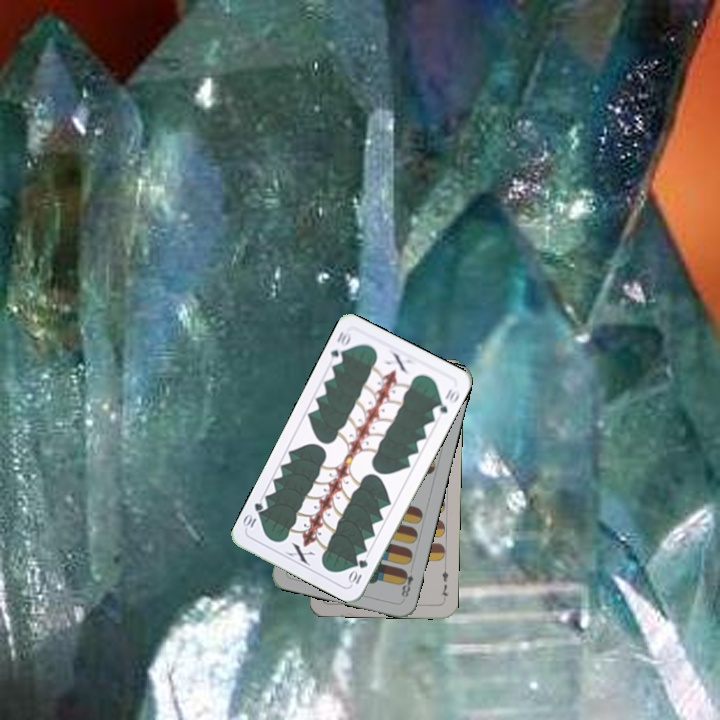E7: (437, 562, 451, 603)
E8: (397, 566, 416, 603)
G10: (325, 327, 353, 368), (345, 555, 371, 587)
